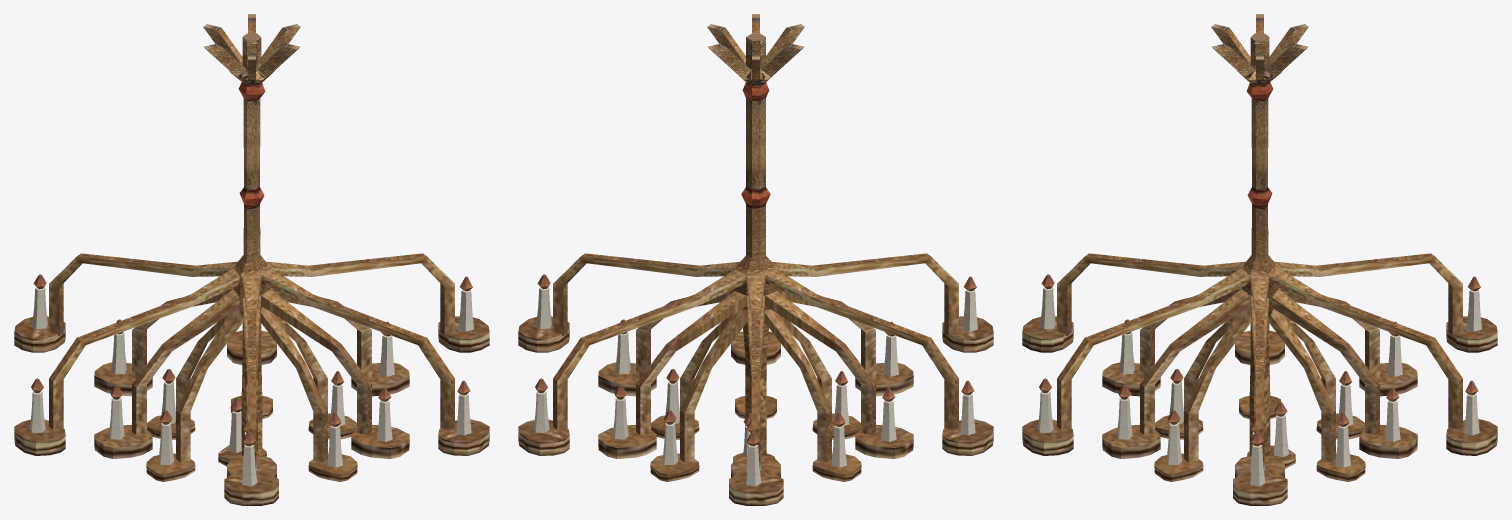
Rendered from Chandelier.fbx.
3 views of the same model, side by side, from view 1: azimuth 30°, elevation 25°; view 2: azimuth 150°, elevation 25°; view 3: azimuth 270°, elevation 25° (orthographic).
Parts seen in each view (by area): view 1: Chandelier; view 2: Chandelier; view 3: Chandelier.
Boxes of the visible parts, box(x1,y1,x2,y2) form: Chandelier: box(14, 14, 489, 505); Chandelier: box(518, 14, 993, 505); Chandelier: box(1022, 14, 1497, 505).
Bounding box in the file's own units: 458 × 404 × 407.
Materials: 1 (1 with a texture image).
